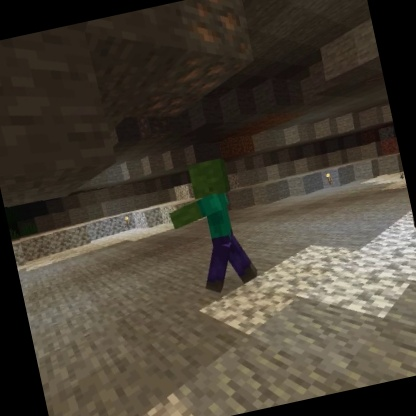zombie: (157, 151, 264, 303)
